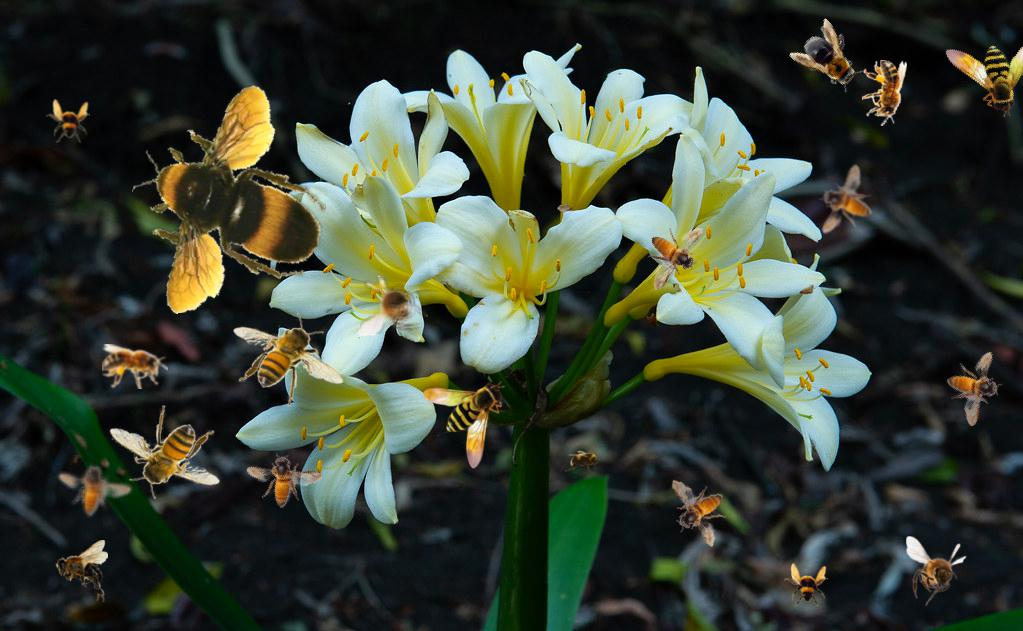Bee: (122, 78, 336, 317), (930, 6, 1023, 120), (109, 405, 220, 499), (233, 313, 344, 407), (801, 162, 889, 247), (788, 16, 874, 102), (933, 341, 1017, 428), (47, 447, 135, 530), (423, 381, 505, 469), (631, 213, 719, 292), (237, 440, 325, 519), (670, 473, 730, 552), (906, 536, 967, 606), (358, 275, 428, 336), (55, 540, 108, 602), (862, 60, 907, 126), (102, 344, 168, 389), (784, 563, 828, 607), (46, 99, 90, 143), (565, 450, 605, 472)
